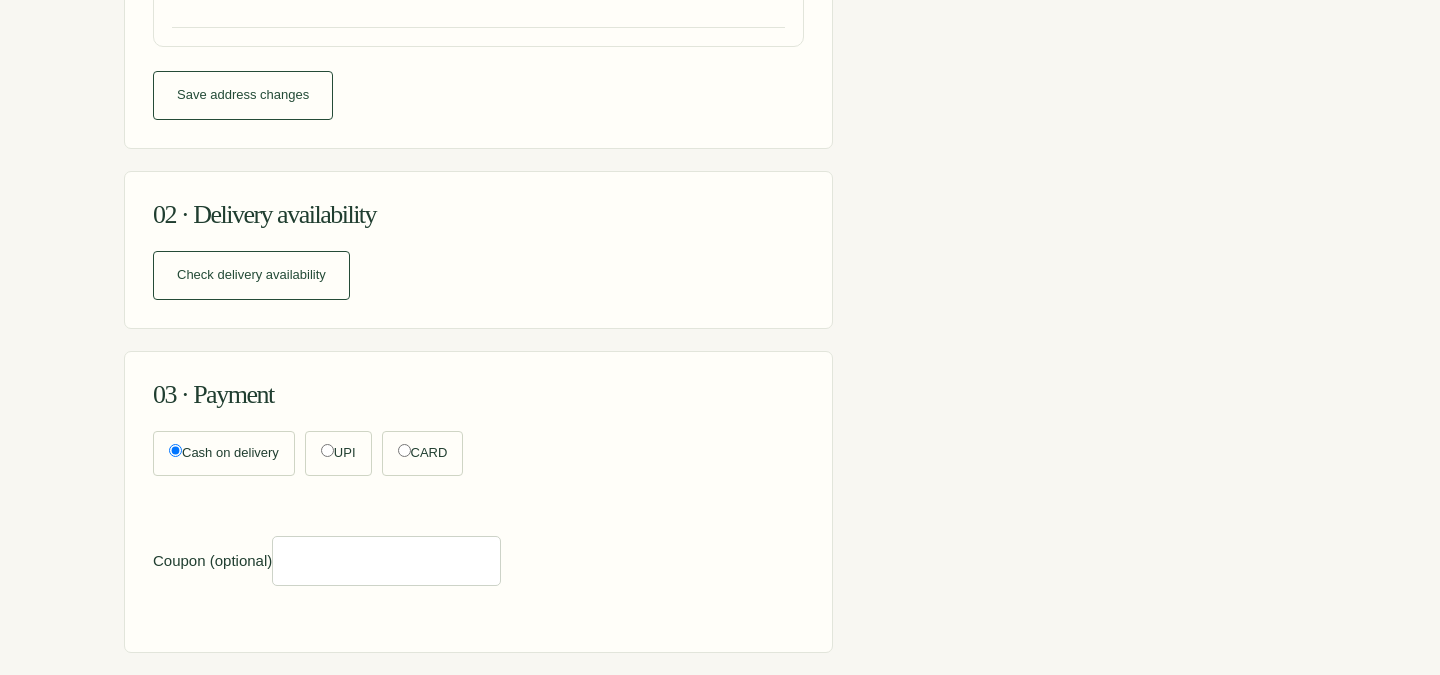
Test: backend delivery checkout › invalidates the quote after an address edit and requires delivery recheck if the PIN changes
This screenshot has width=1440, height=675.
(page scrolled)
Click the button "Check delivery availability". click: (251, 275)
box: left=153, top=251, right=350, bottom=300
(page scrolled)
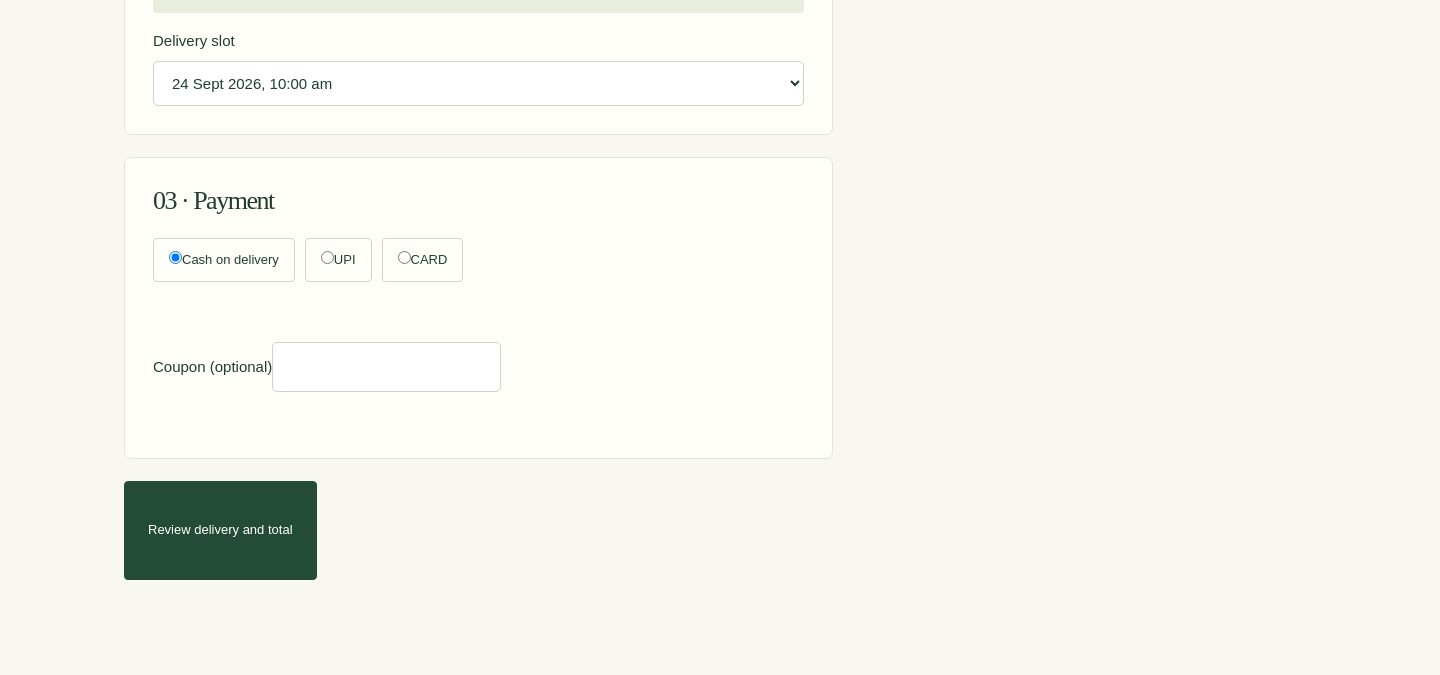
Expected: the dropdown labelled "Delivery slot" is shown, left=153, top=61, right=804, bottom=106
Click the button "Review delivery and total". click: (220, 531)
box: left=124, top=481, right=316, bottom=580
(page scrolled)
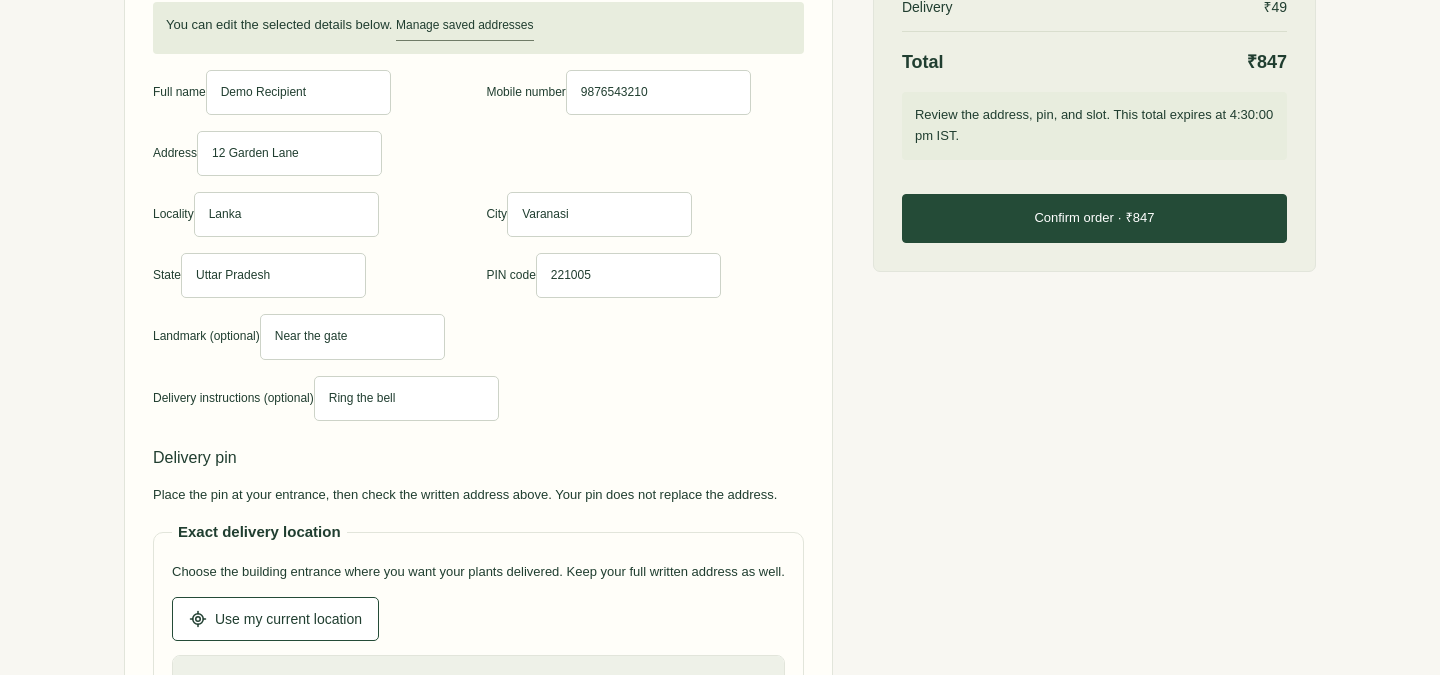
Replace the text in the field labelled "PIN code" with "221001". click: (628, 276)
box: left=536, top=253, right=721, bottom=298
(page scrolled)
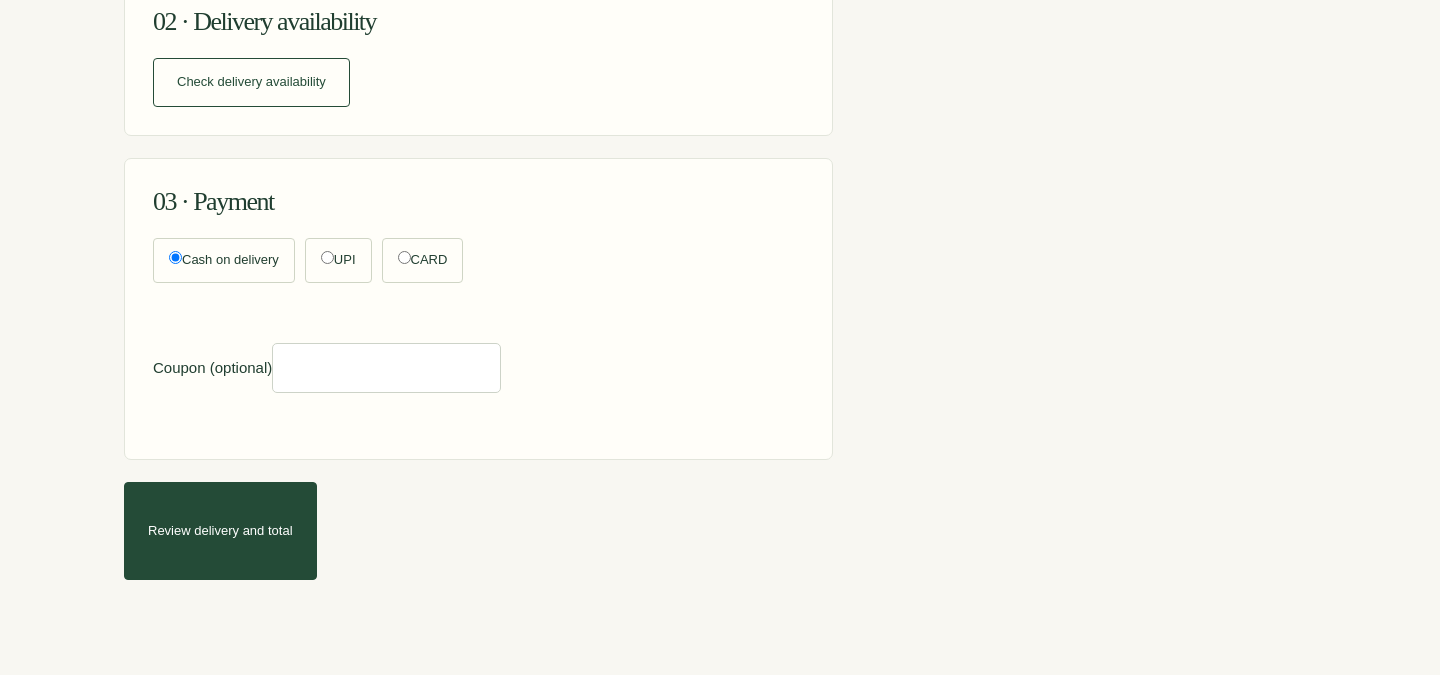
Expected: the button "Confirm order" is gone
Click the button "Review delivery and total". click: (220, 531)
box: left=124, top=482, right=316, bottom=580
(page scrolled)
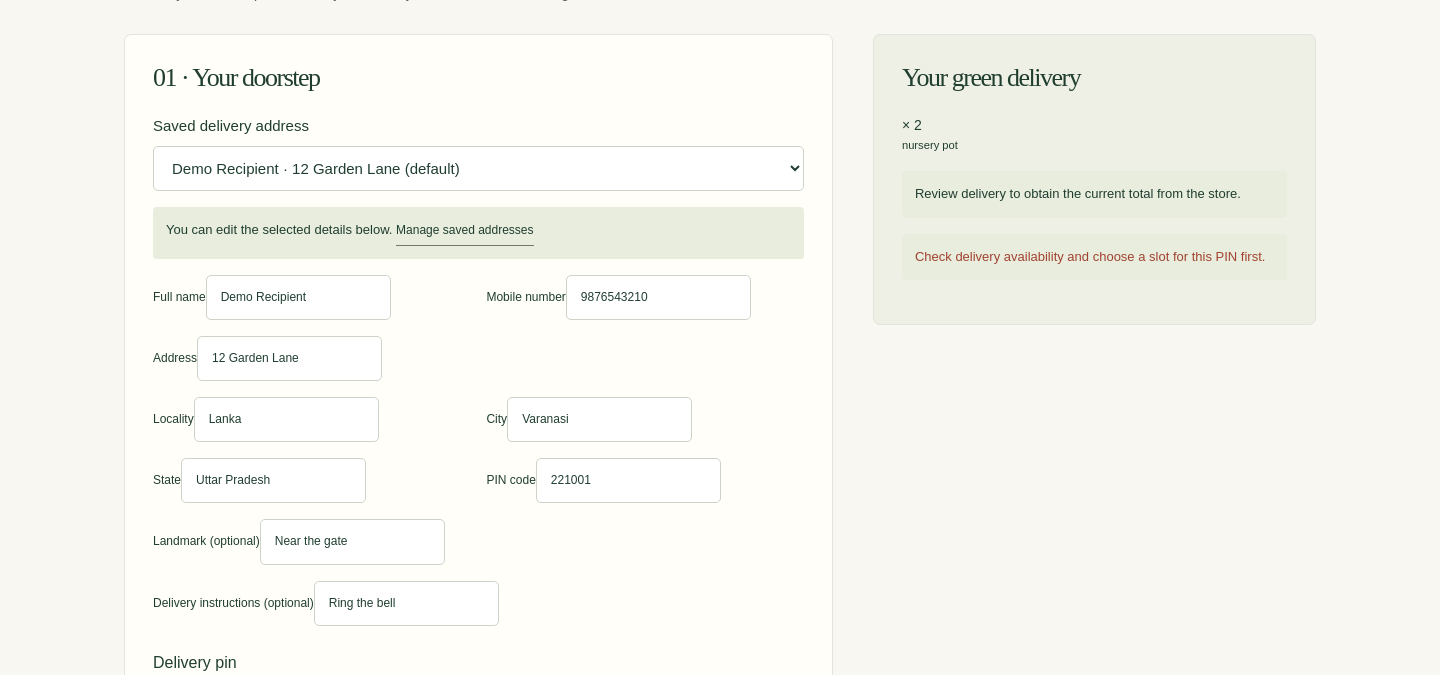
Expected: the text "Check delivery availability and choose a slot for this PIN first." is shown, left=902, top=234, right=1287, bottom=280
